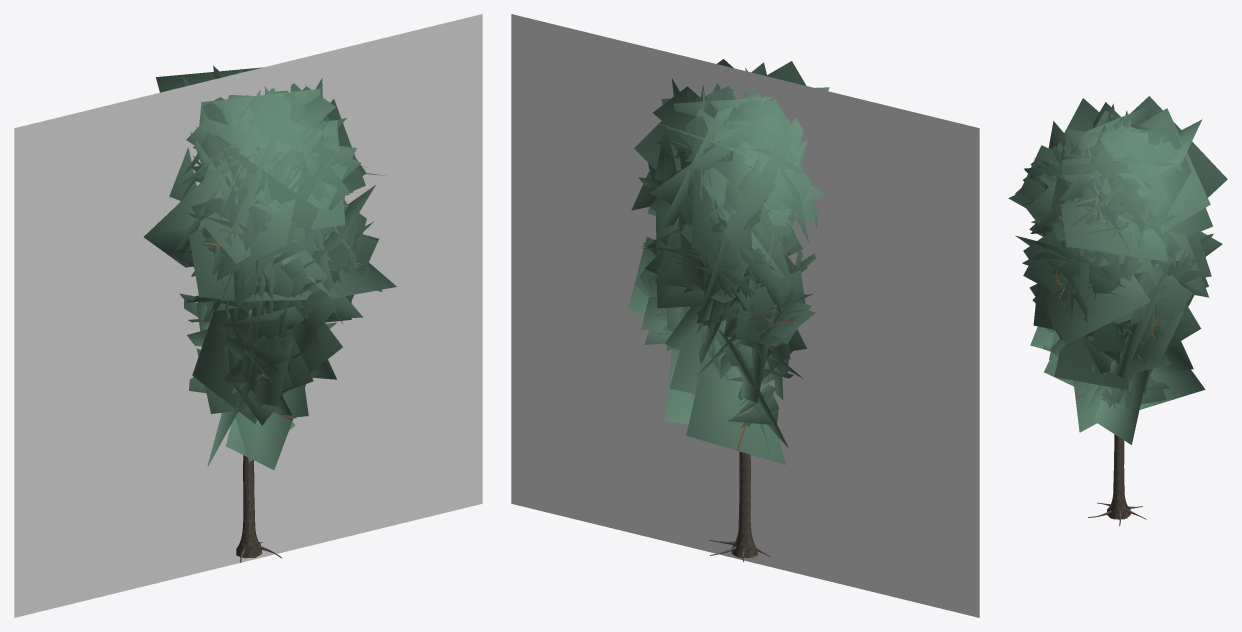
File: pin_adulte_d.fbx
3 renders of one model, left to right at view 1: azimuth 30°, elevation 25°; view 2: azimuth 150°, elevation 25°; view 3: azimuth 270°, elevation 25°, orthographic. The views are drawn at different scales.
Parts seen in each view (by area): view 1: pin_adulte_d_LOD3, pin_adulte_d_LOD2, pin_adulte_d_LOD1; view 2: pin_adulte_d_LOD3, pin_adulte_d_LOD2, pin_adulte_d_LOD1; view 3: pin_adulte_d_LOD2, pin_adulte_d_LOD1.
Boxes of the visible parts, <box> form: pin_adulte_d_LOD3: <box>14,14,482,617</box>; pin_adulte_d_LOD2: <box>143,66,396,562</box>; pin_adulte_d_LOD1: <box>179,83,382,562</box>; pin_adulte_d_LOD3: <box>511,14,979,617</box>; pin_adulte_d_LOD2: <box>628,59,829,561</box>; pin_adulte_d_LOD1: <box>633,83,818,561</box>; pin_adulte_d_LOD2: <box>1008,96,1227,524</box>; pin_adulte_d_LOD1: <box>1019,120,1213,526</box>.
Size of what is drawn, in the model's own units: 26.96 by 26.96 by 13.04.
